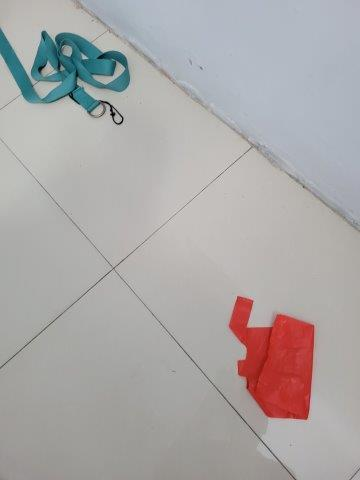plastik: (229, 295, 314, 421)
